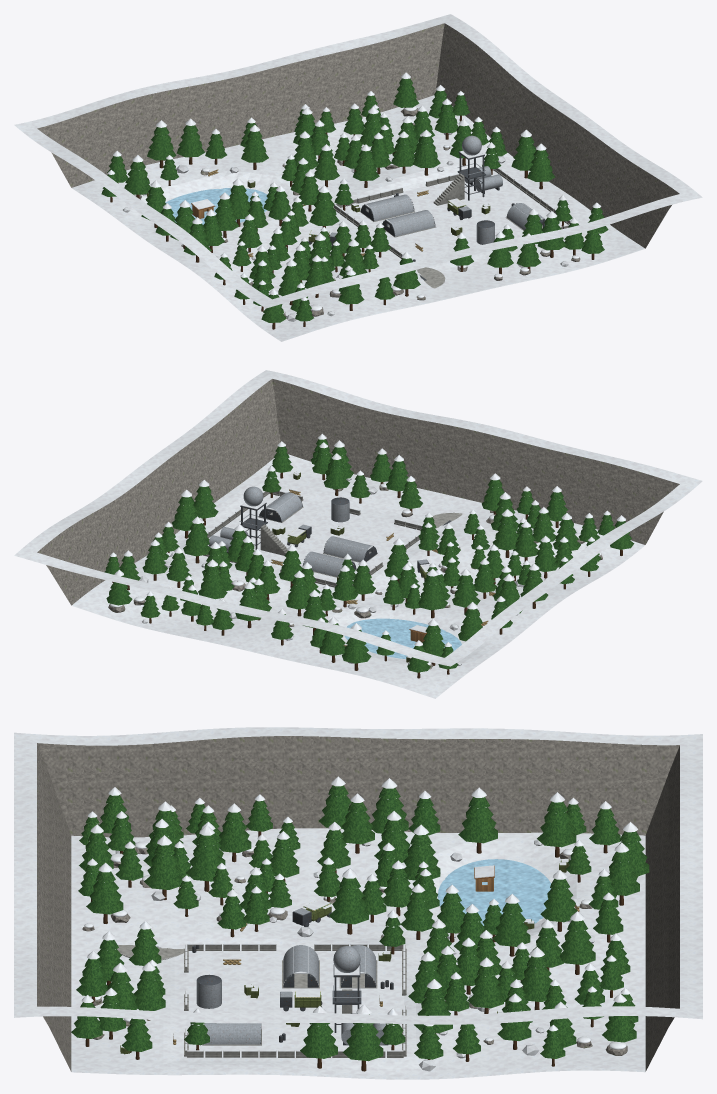
The model's file is map_frost (1).glb.
3 renders of one model, top to bottom at view 1: azimuth 30°, elevation 25°; view 2: azimuth 150°, elevation 25°; view 3: azimuth 270°, elevation 25°, orthographic. The views are drawn at different scales.
Visible parts, largest first — view 1: snow, rock, pine, metallight, concrete, metal, bark, ice, nocol_concrete; view 2: snow, rock, pine, metallight, ice, concrete, metal, bark, nocol_concrete; view 3: snow, rock, pine, metallight, ice, concrete, metal, bark, crate.
Boxes of the visible parts, box(x1,y1,x2,y2) form: snow: box(14, 14, 702, 341); rock: box(37, 23, 679, 316); pine: box(101, 78, 608, 322); metallight: box(329, 135, 545, 244); concrete: box(333, 168, 570, 288); metal: box(308, 152, 545, 280); bark: box(110, 107, 594, 329); ice: box(165, 187, 267, 224); nocol_concrete: box(433, 173, 464, 205); snow: box(14, 370, 702, 698); rock: box(37, 379, 679, 669); pine: box(104, 439, 634, 672); metallight: box(208, 486, 428, 576); ice: box(344, 618, 461, 658); concrete: box(203, 491, 462, 587); metal: box(227, 495, 451, 580); bark: box(112, 472, 622, 678); nocol_concrete: box(260, 524, 287, 555); snow: box(14, 727, 702, 1079); rock: box(37, 736, 679, 1071); pine: box(71, 785, 649, 1061); metallight: box(196, 908, 385, 1044); ice: box(437, 859, 551, 925); concrete: box(117, 944, 406, 1057); metal: box(156, 911, 393, 1045); bark: box(85, 829, 623, 1071); crate: box(120, 858, 569, 1054).
Size of what is drawn, in the model's own units: 120 by 17.69 by 120.
13 materials, 13 textured.
